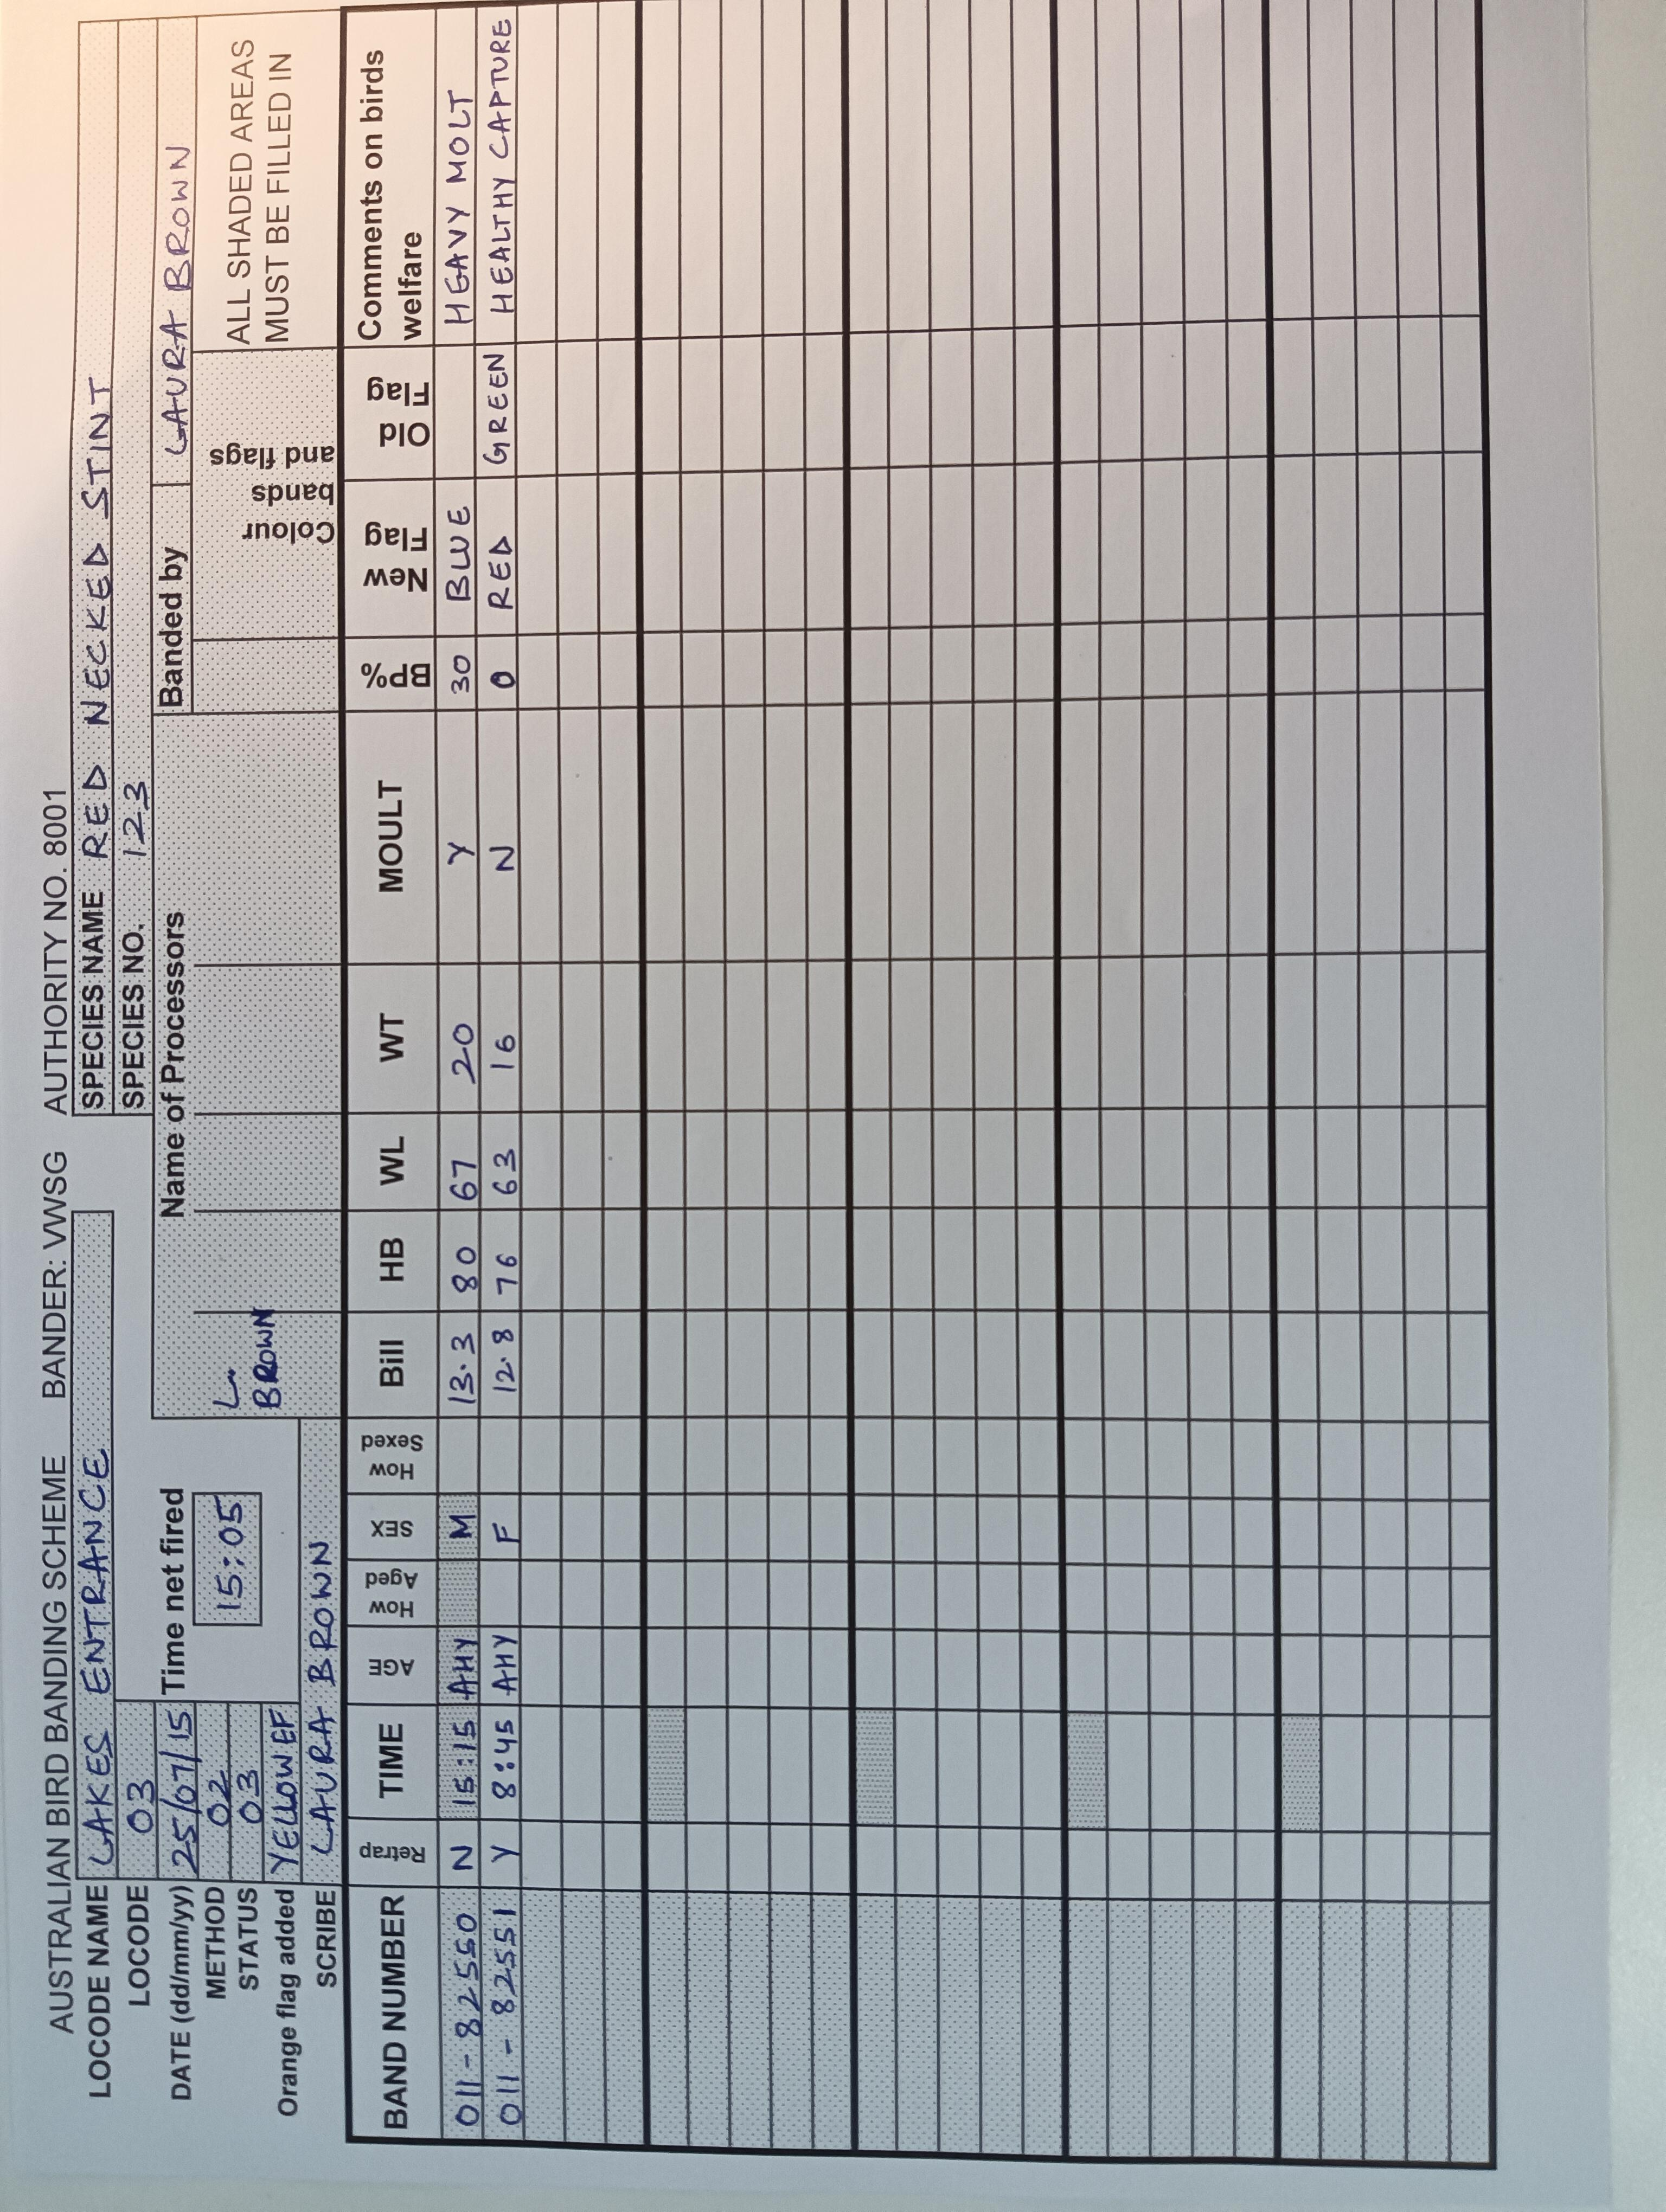BANDED_BY: (154, 14, 198, 717)
DATA: (472, 3, 529, 2146), (436, 0, 485, 2144)
DATE: (157, 1700, 210, 2112)
LOCOCODE: (124, 1700, 159, 2030)
LOCOCODE_NAME: (73, 1208, 122, 2111)
METHOD: (201, 1700, 231, 2035)
NAME_OF_PROCESSORS: (179, 1308, 331, 1413)
ORANGE_FLAG_ADDED: (266, 1700, 308, 2132)
SCRIBE: (299, 1418, 346, 2014)
SPECIES_NAME: (72, 26, 122, 1126)
SPECIES_NO: (114, 19, 159, 1124)
STATUS: (235, 1703, 268, 2032)
TIME_NET_FIRED: (131, 1453, 283, 1693)
